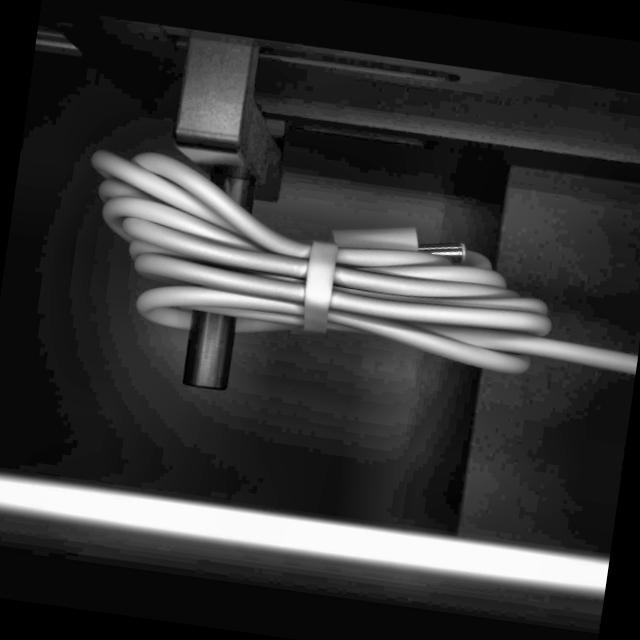Cable: (63, 137, 640, 395)
